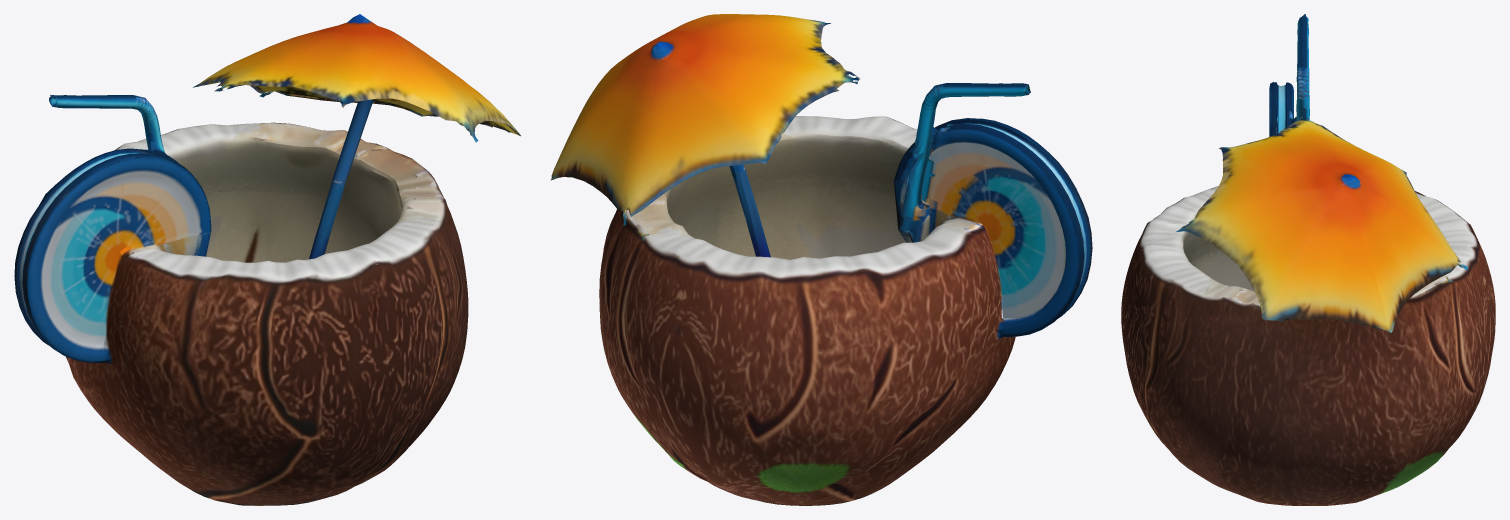
File: coconutDrink.glb
3 renders of one model, left to right at view 1: azimuth 30°, elevation 25°; view 2: azimuth 150°, elevation 25°; view 3: azimuth 270°, elevation 25°, orthographic. The views are drawn at different scales.
Visible parts, largest first — view 1: Mesh0; view 2: Mesh0; view 3: Mesh0.
Boxes of the visible parts, <box> form: Mesh0: <box>14,14,520,505</box>; Mesh0: <box>551,14,1092,505</box>; Mesh0: <box>1121,14,1495,505</box>.
Size of the model in its own units: 1.87 by 1.54 by 1.42.
1 material, 1 textured.
